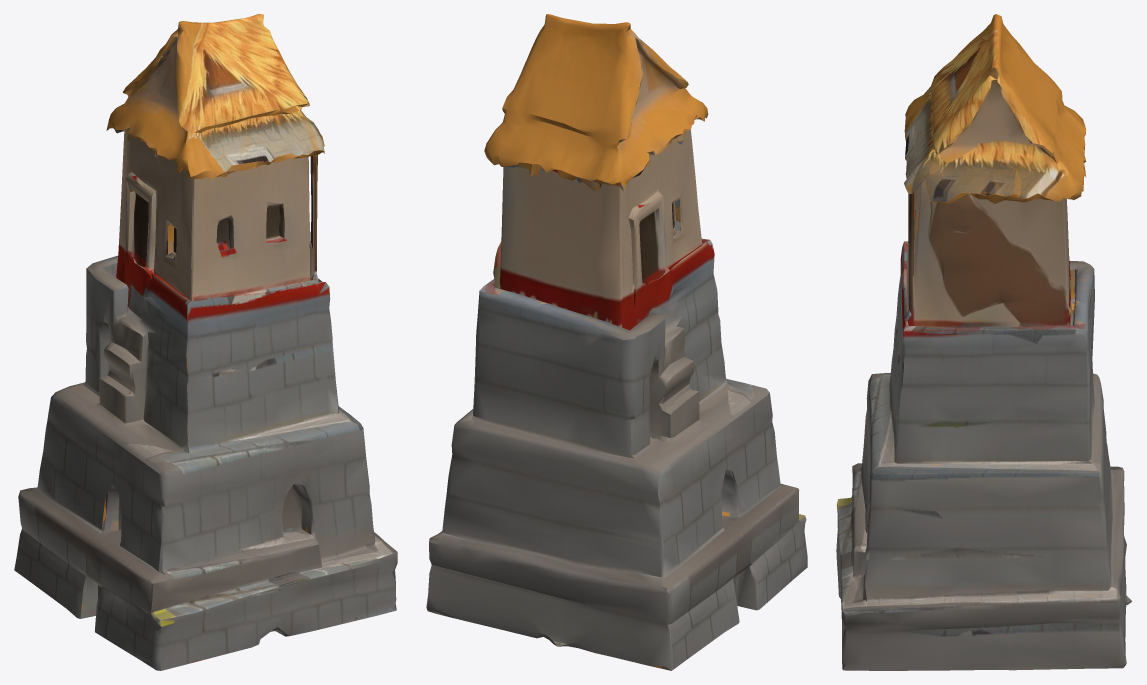
File: tawantinsuyu_torre.glb
3 views of the same model, side by side, from view 1: azimuth 30°, elevation 25°; view 2: azimuth 150°, elevation 25°; view 3: azimuth 270°, elevation 25° (orthographic). The views are drawn at different scales.
Parts seen in each view (by area): view 1: geometry_0; view 2: geometry_0; view 3: geometry_0.
Boxes of the visible parts, left/top/right/bottom form: geometry_0: left=14, top=14, right=397, bottom=670; geometry_0: left=426, top=14, right=807, bottom=670; geometry_0: left=836, top=14, right=1132, bottom=670.
Bounding box in the file's own units: 1.4 × 3.03 × 1.39.
1 material, 1 textured.
